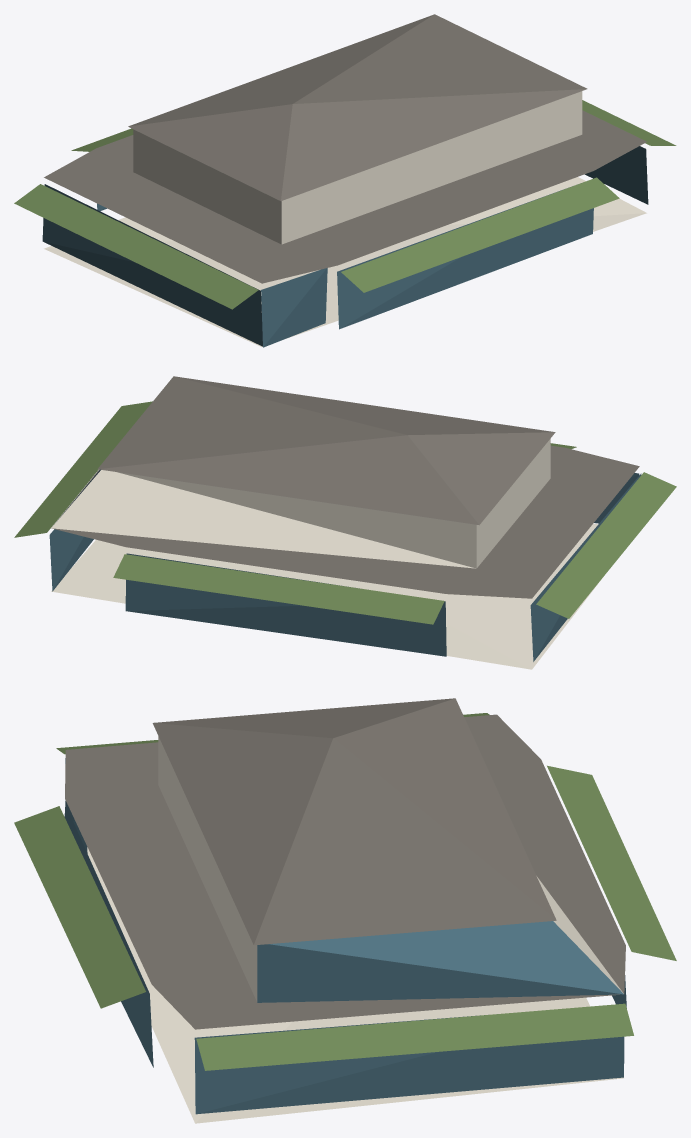
File: groot-melkhuis.lod2.glb
The picture shows the model from 3 angles, top to bottom: view 1: azimuth 30°, elevation 25°; view 2: azimuth 150°, elevation 25°; view 3: azimuth 270°, elevation 25°; orthographic projection. The views are drawn at different scales.
Visible parts, largest first — view 1: lod2; view 2: lod2; view 3: lod2.
Boxes of the visible parts, x1,y1,x2,y2 form: lod2: [14, 14, 676, 347]; lod2: [14, 376, 676, 669]; lod2: [14, 698, 676, 1123].
Size of the model in its own units: 30.2 by 7.5 by 23.63.
